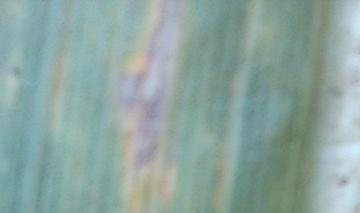tarspot: (10, 65, 23, 78), (337, 178, 348, 187)
